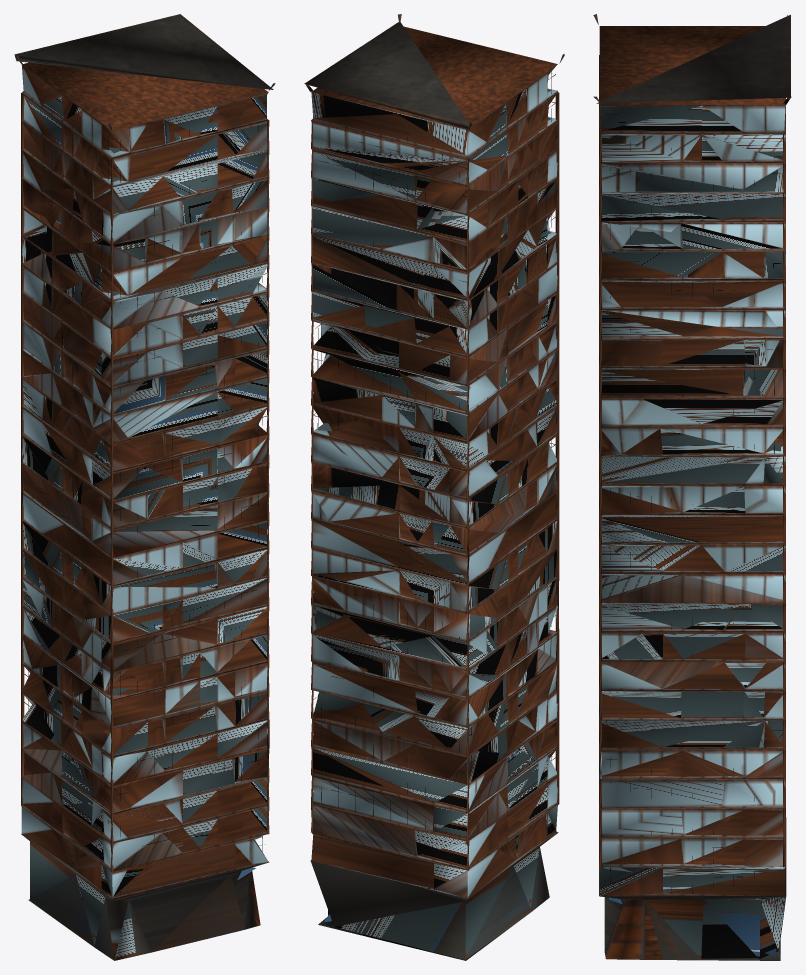
3 views of the same model, side by side, from view 1: azimuth 30°, elevation 25°; view 2: azimuth 150°, elevation 25°; view 3: azimuth 270°, elevation 25° (orthographic). The views are drawn at different scales.
Parts seen in each view (by area): view 1: Skyscraper-02-BAKED.001; view 2: Skyscraper-02-BAKED.001; view 3: Skyscraper-02-BAKED.001.
Part boxes in pixels (left/top/right/bottom): Skyscraper-02-BAKED.001: left=14, top=14, right=275, bottom=960; Skyscraper-02-BAKED.001: left=304, top=14, right=564, bottom=960; Skyscraper-02-BAKED.001: left=593, top=14, right=791, bottom=960.
Size of the model in its own units: 21.47 by 103 by 21.41.
Materials: 1 (1 with a texture image).
